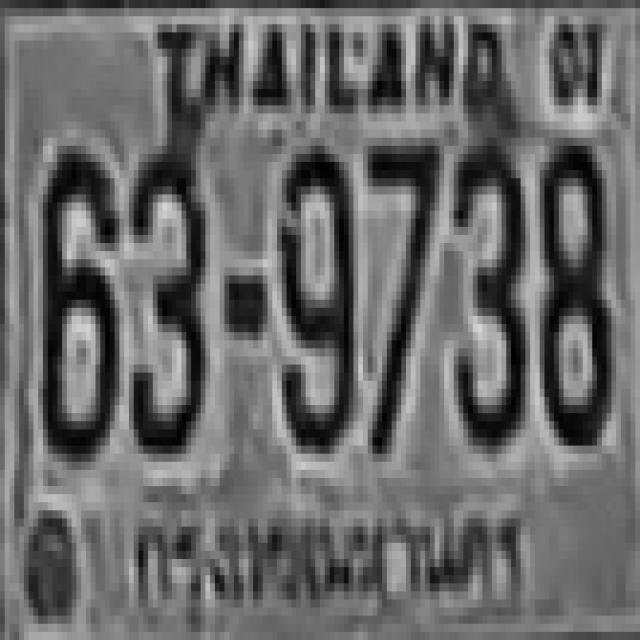3: (129, 137, 201, 446), (449, 138, 521, 437)
6: (38, 142, 115, 458)
7: (363, 133, 435, 450), (363, 138, 435, 364)
8: (537, 134, 609, 433)
9: (277, 137, 349, 446)
BKK: (119, 481, 534, 628)
